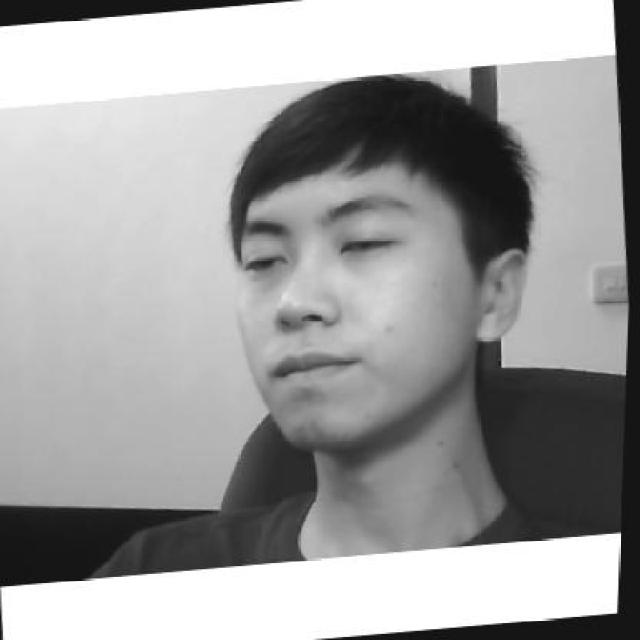inattentif: (210, 62, 548, 452)
